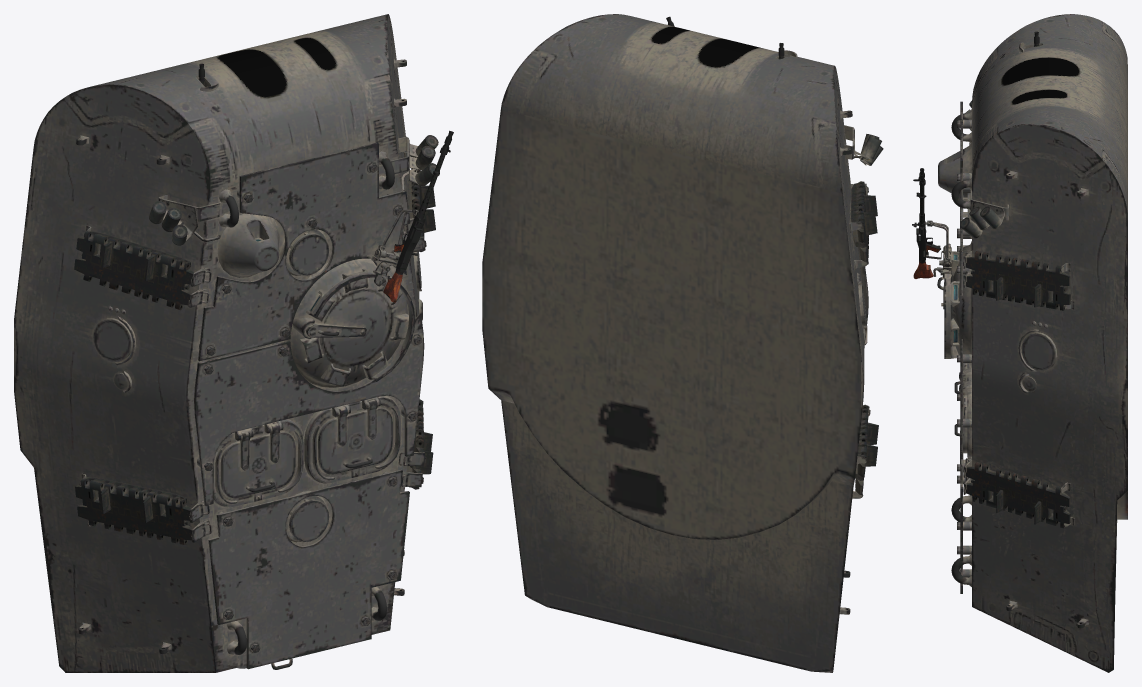
Rendered from Turret_01.glb.
3 views of the same model, side by side, from view 1: azimuth 30°, elevation 25°; view 2: azimuth 150°, elevation 25°; view 3: azimuth 270°, elevation 25° (orthographic). The views are drawn at different scales.
Parts seen in each view (by area): view 1: set_0_group_0; view 2: set_0_group_0; view 3: set_0_group_0.
Part boxes in pixels (x1,y1,x2,y2): set_0_group_0: (14, 14, 453, 672); set_0_group_0: (482, 14, 883, 672); set_0_group_0: (912, 14, 1127, 672).
Size of the model in its own units: 3.1 by 4.6 by 1.63.
1 material, 1 textured.
